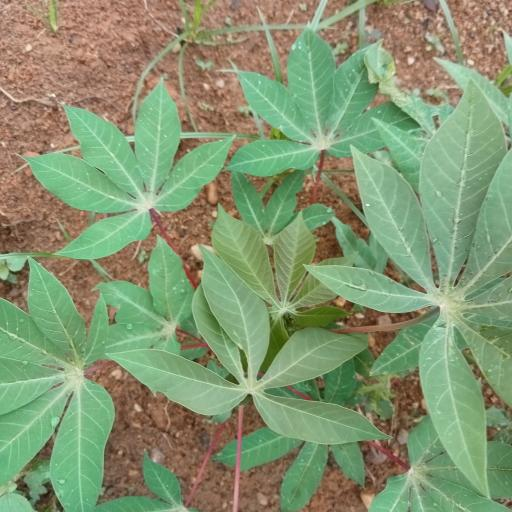Cassava_Mosaic: (338, 88, 512, 494), (105, 252, 395, 444), (32, 89, 226, 257), (0, 258, 112, 512), (227, 34, 412, 178)
